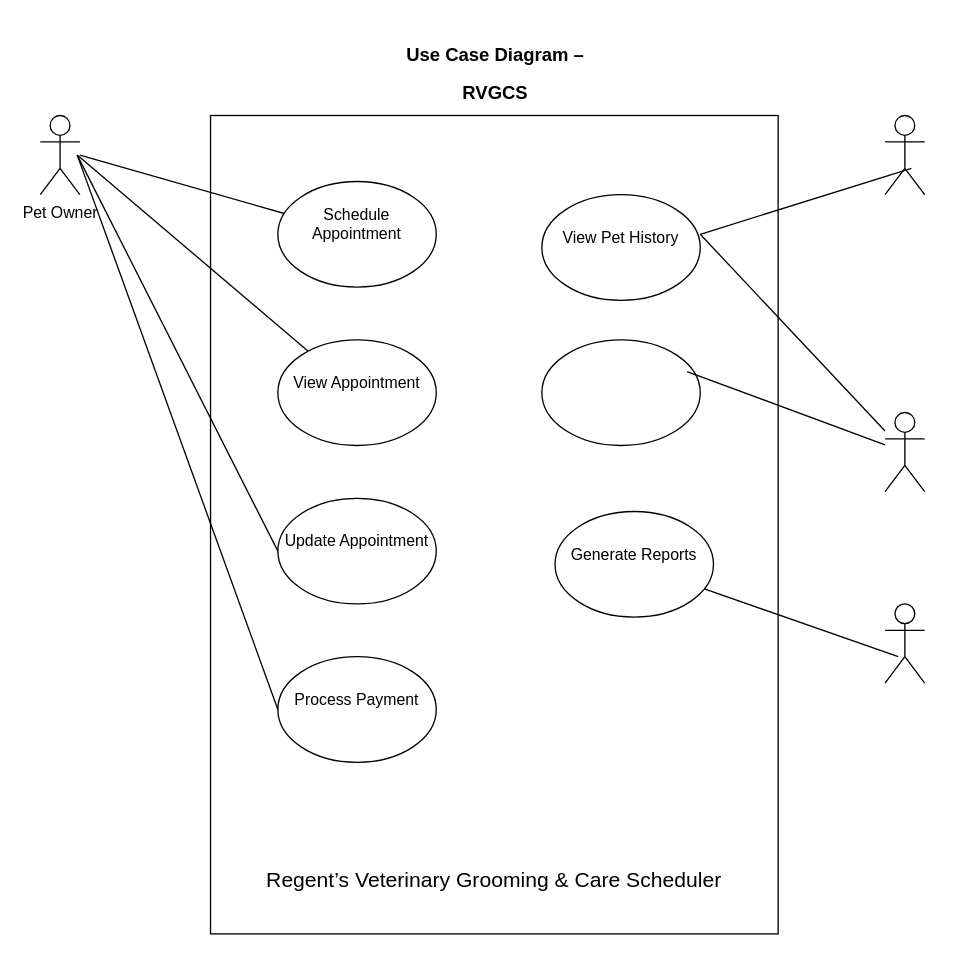
This 974x957 diagram has some shape labels left out. The centre of each missing label's shape, as x and y in pixels:
Administrator: pixel 904 643
Groomer: pixel 904 154
Update Pet Record: pixel 620 392
Veterinarian: pixel 904 451
